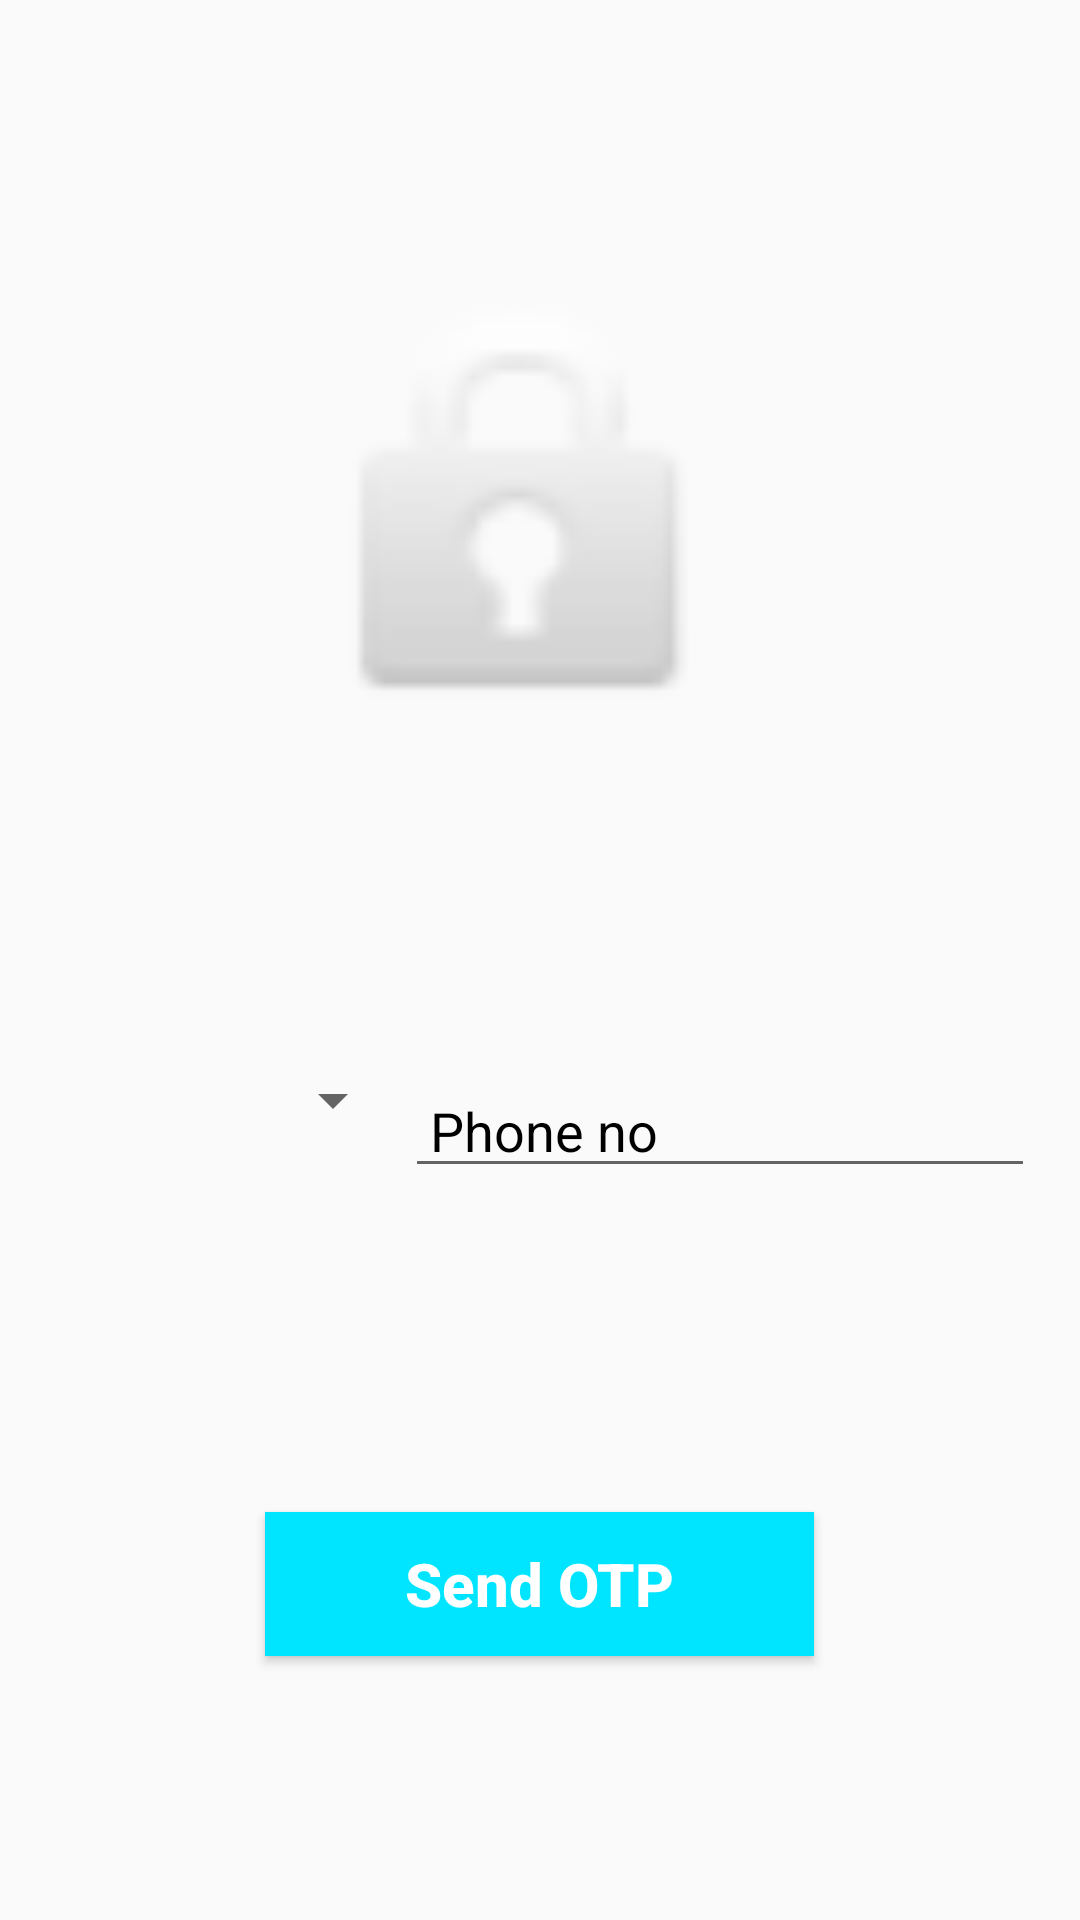

Icons on this 1080w x 1920h Android screen, each with the point to tap as [x,y]:
lock idle: [519,588]
